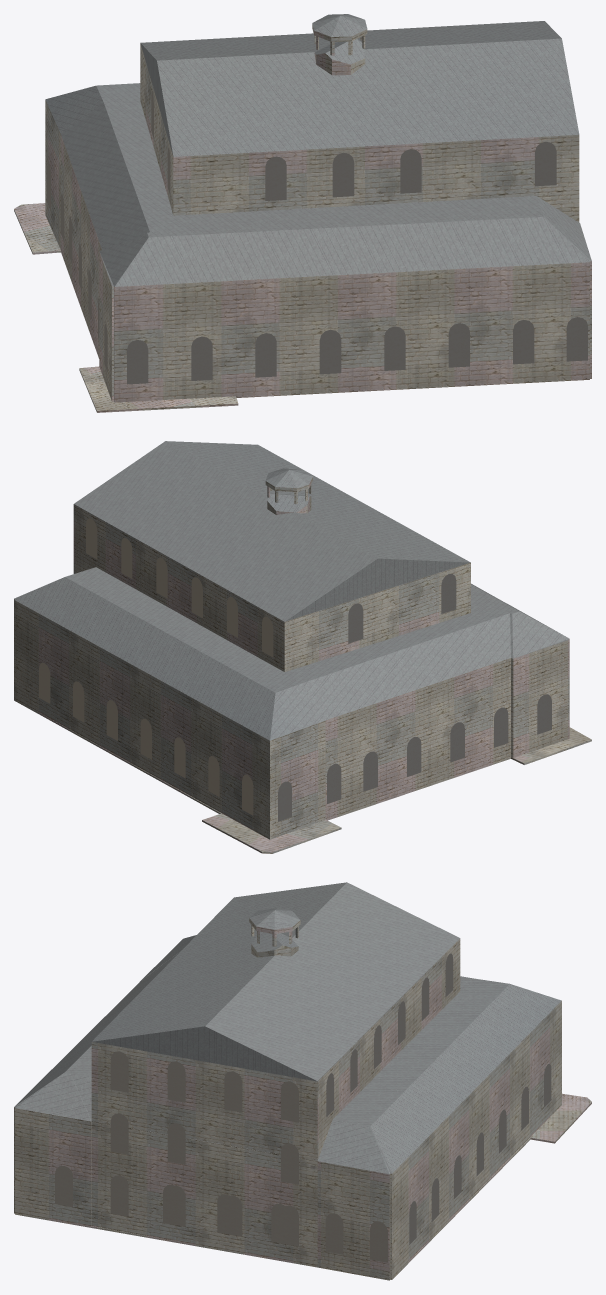
The model's file is theatre-de-la-ville.glb.
The picture shows the model from 3 angles, top to bottom: view 1: azimuth 30°, elevation 25°; view 2: azimuth 150°, elevation 25°; view 3: azimuth 270°, elevation 25°; orthographic projection. The views are drawn at different scales.
Parts seen in each view (by area): view 1: roof, stone, window; view 2: roof, stone, window; view 3: stone, roof, window.
Part boxes in pixels (x1,y1,x2,y2): roof: [45, 14, 591, 286]; stone: [14, 24, 591, 412]; window: [47, 91, 587, 384]; roof: [14, 441, 569, 740]; stone: [14, 477, 591, 853]; window: [39, 518, 551, 821]; stone: [14, 918, 591, 1280]; roof: [14, 882, 561, 1174]; window: [55, 953, 551, 1262].
Bounding box in the file's own units: 59.38 × 29 × 59.15.
Materials: 4 (4 with a texture image).
